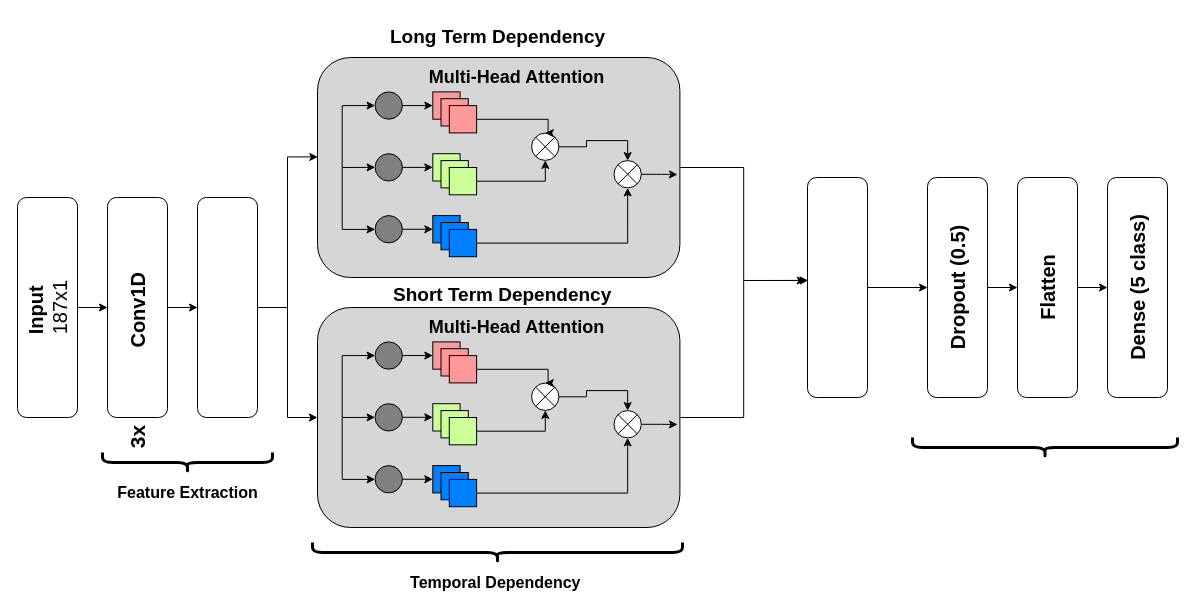
Image size: 1196x614. Some labels were removed from this diagram. The centre of each missing label's shape, as x and y in pixels:
Classification: point 1044,447
Concatenation: point 837,287
Max-pooling: point 227,307
